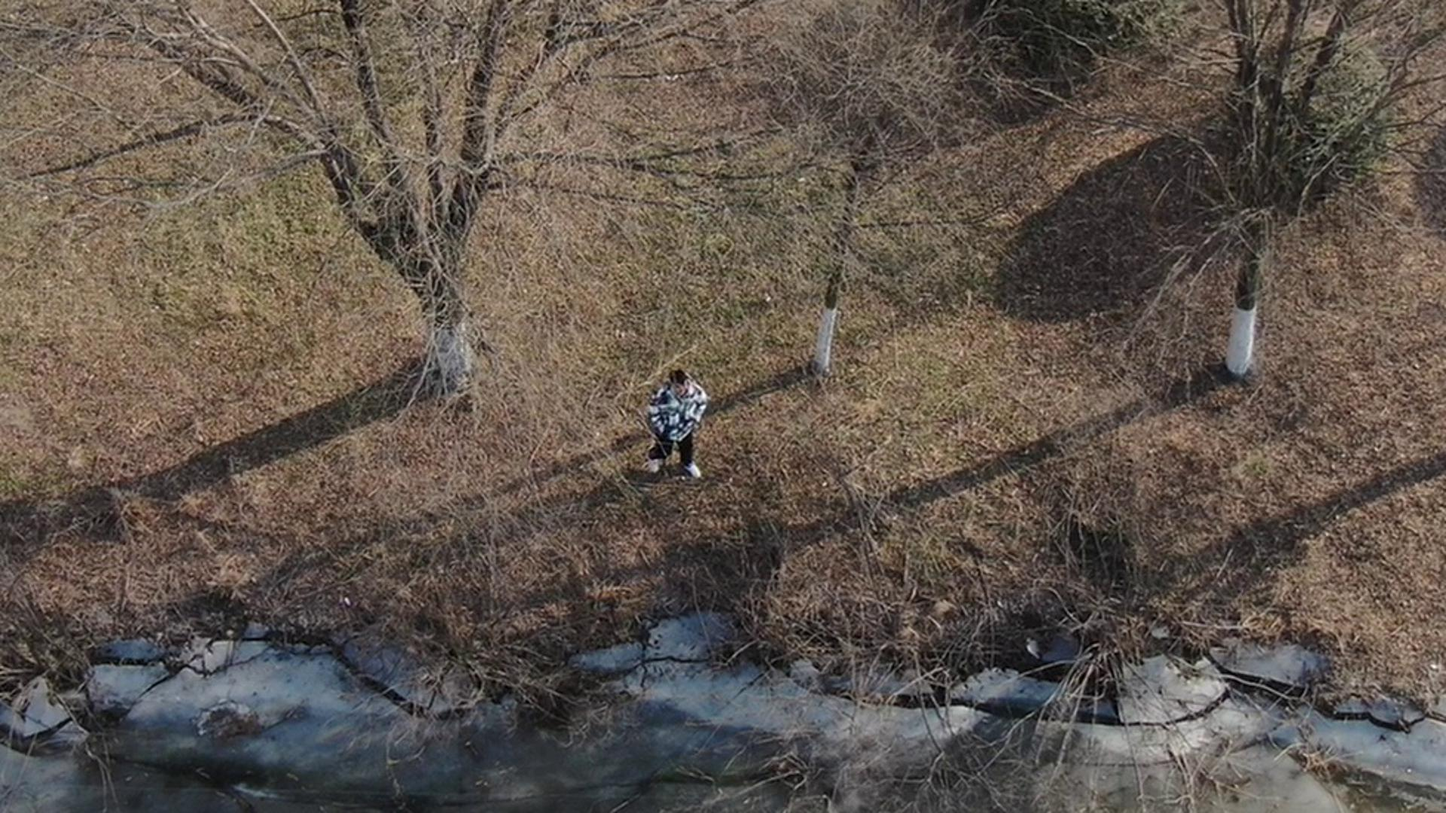human: (658, 420, 704, 529)
